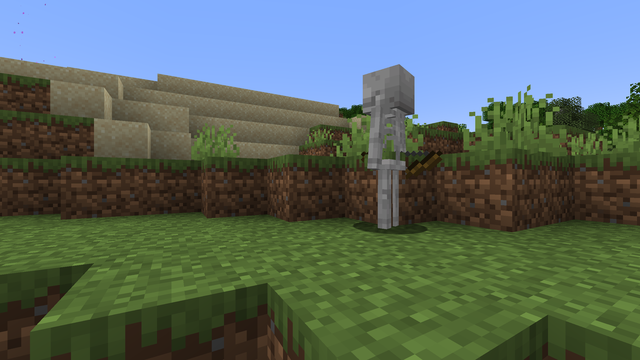squelettes: (356, 62, 422, 232)
